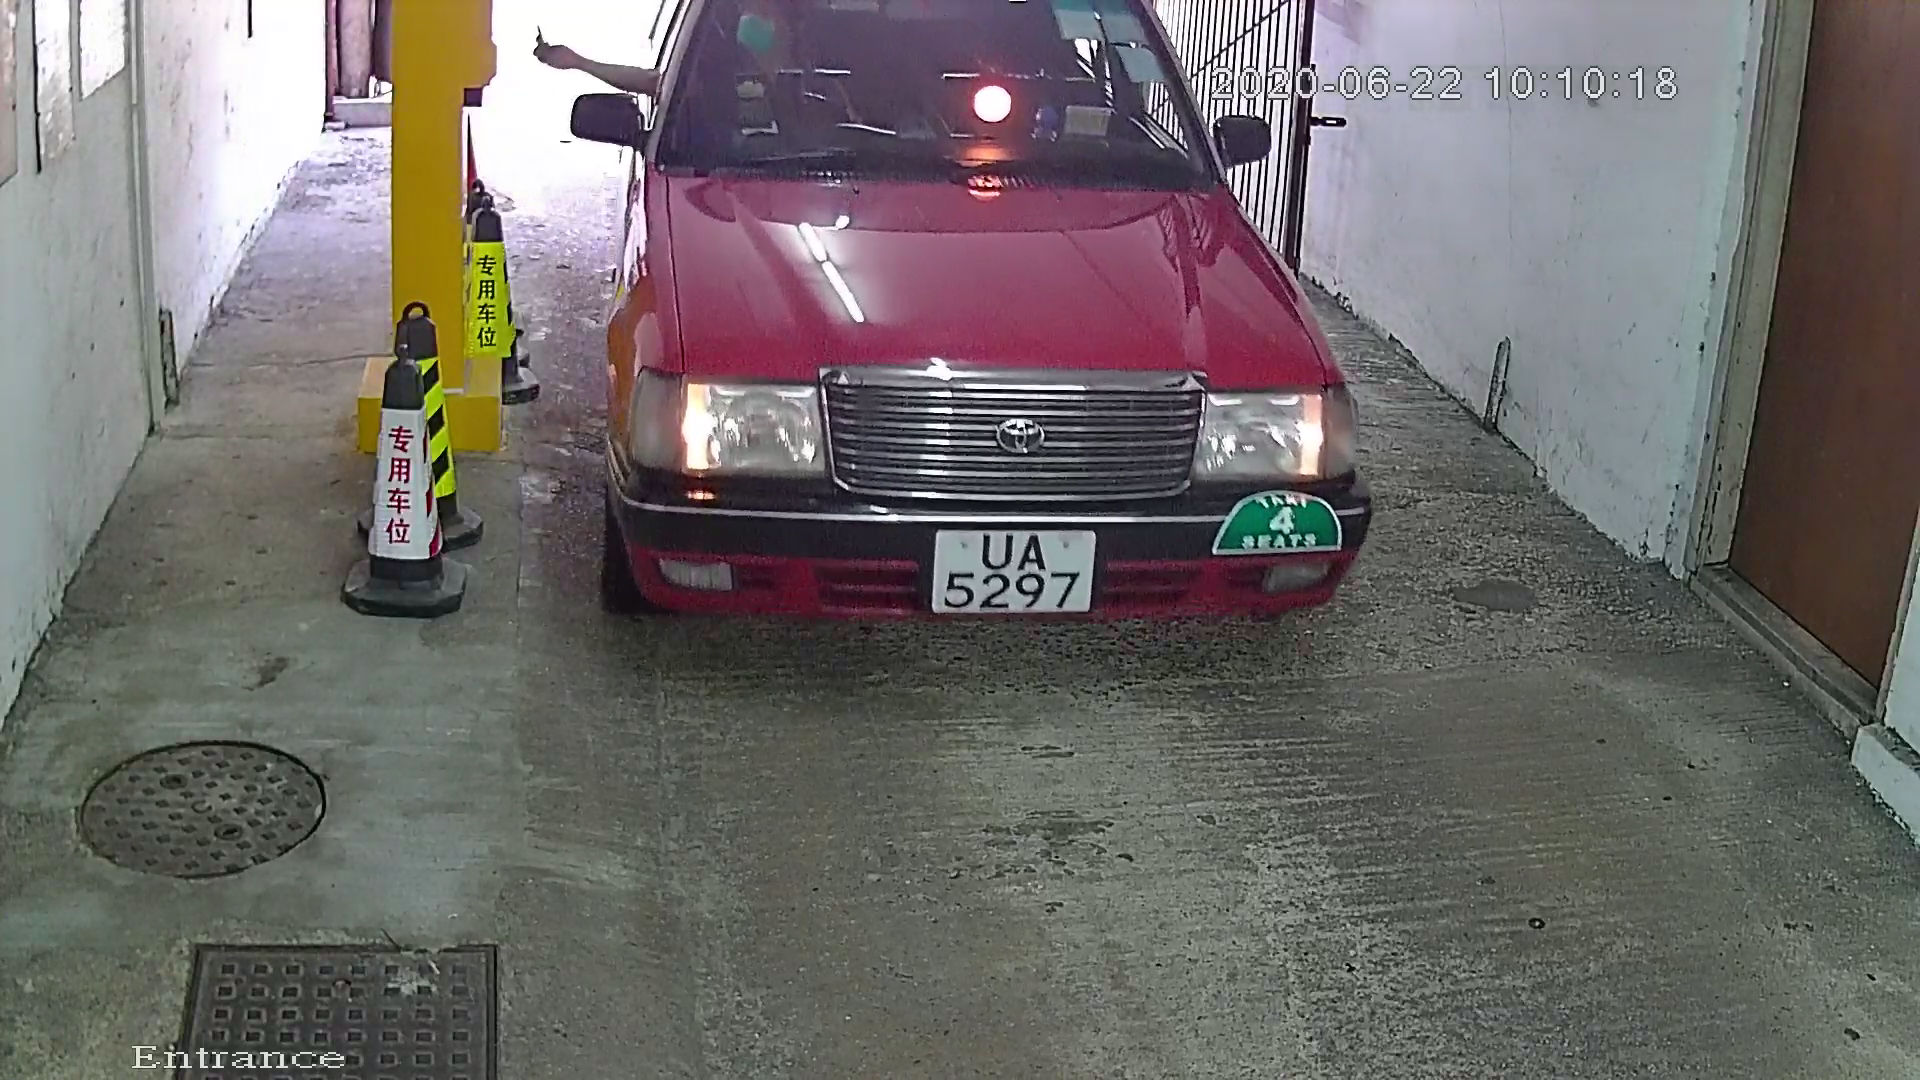taxi: (576, 1, 1456, 742)
taxi_mark: (1182, 469, 1365, 595)
